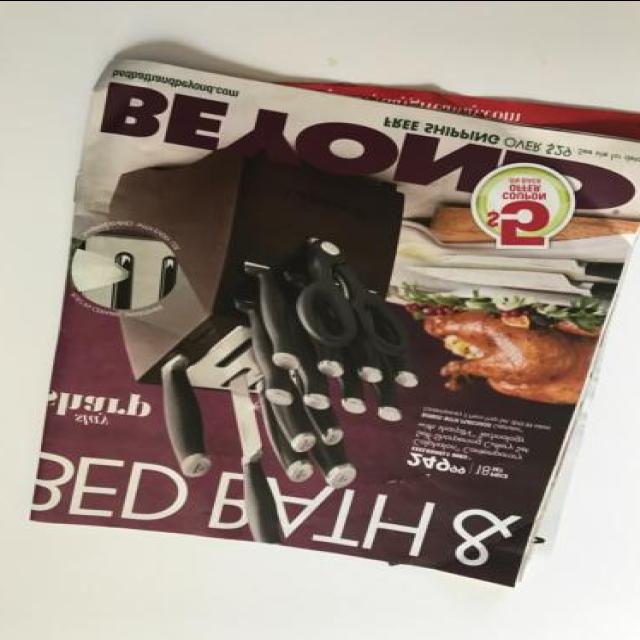kertas: (31, 55, 640, 587)
